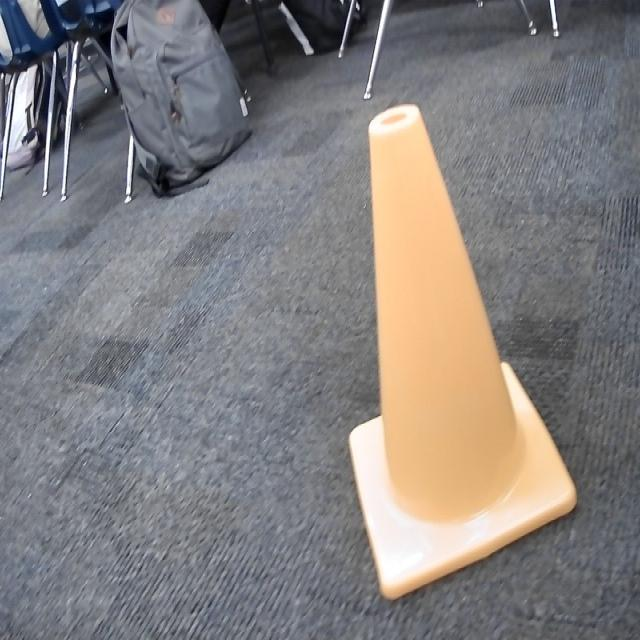cone: (346, 101, 580, 606)
